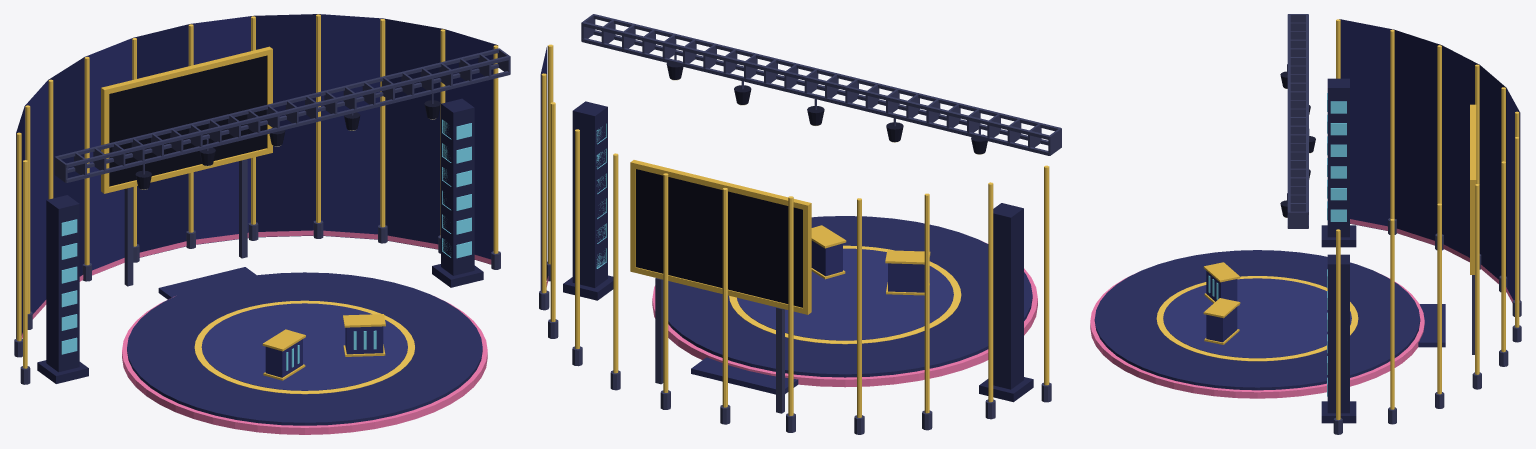
File: estudio.glb
The picture shows the model from 3 angles, left to right: view 1: azimuth 30°, elevation 25°; view 2: azimuth 150°, elevation 25°; view 3: azimuth 270°, elevation 25°; orthographic projection. The views are drawn at different scales.
Visible parts, largest first — view 1: panel_b, panel_a, tarima, truss, tarima_centro, marco_fondo, torre, luz_columna, luz_borde, marco, luz_torre, luz_anillo (+4 smaller); view 2: tarima, truss, marco_fondo, luz_columna, torre, tarima_centro, marco, luz_borde, atril, luz_anillo, atril_tapa, foco (+1 smaller); view 3: tarima, panel_b, panel_a, tarima_centro, luz_columna, torre, truss, luz_borde, luz_anillo, luz_torre, atril, atril_tapa (+2 smaller).
Boxes of the visible parts, x1,y1,x2,y2 form: panel_b: (24,14,497,314); panel_a: (16,14,444,338); tarima: (127,267,482,425); truss: (14,48,510,384); tarima_centro: (201,303,407,390); marco_fondo: (109,55,266,186); torre: (37,98,483,383); luz_columna: (16,14,498,368); luz_borde: (122,296,487,434); marco: (101,46,272,193); luz_torre: (61,119,471,354); luz_anillo: (194,300,414,394); tarima: (668,216,1032,394); truss: (539,14,1061,434); marco_fondo: (636,169,802,307); luz_columna: (541,44,1049,417); torre: (563,101,1033,402); tarima_centro: (737,248,953,340); marco: (630,160,811,314); luz_borde: (652,241,1037,387); atril: (811,240,924,292); luz_anillo: (729,245,961,344); atril_tapa: (811,225,930,295); foco: (666,60,987,154); tarima: (1094,250,1445,390); panel_b: (1339,19,1520,300); panel_a: (1394,29,1506,279); tarima_centro: (1163,278,1351,358); luz_columna: (1336,19,1519,420); torre: (1321,78,1356,423); truss: (1287,14,1521,434); luz_borde: (1090,274,1424,398); luz_anillo: (1156,276,1358,361); luz_torre: (1327,93,1346,396); atril: (1206,271,1237,342); atril_tapa: (1203,262,1240,344).
Size of what is drawn, in the model's own units: 9.96 by 4.66 by 8.49.
